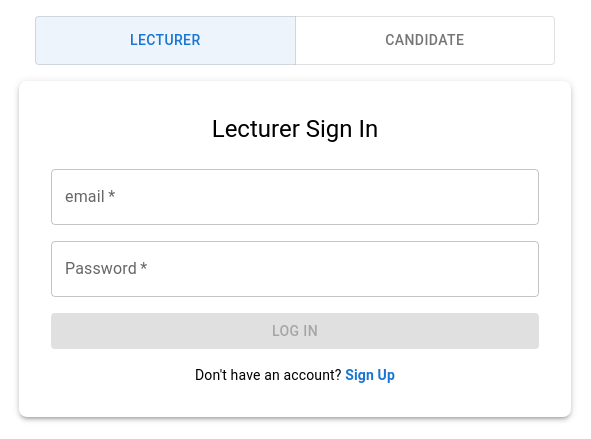
Test: LoginPage › toggles role when clicking toggle buttons
The width and height of the screenshot is (591, 439).
Check: the text "Lecturer Sign In" is shown, box [212,114,378,142]
Click the button "Candidate". click: [425, 40]
box: [294,16,555,64]
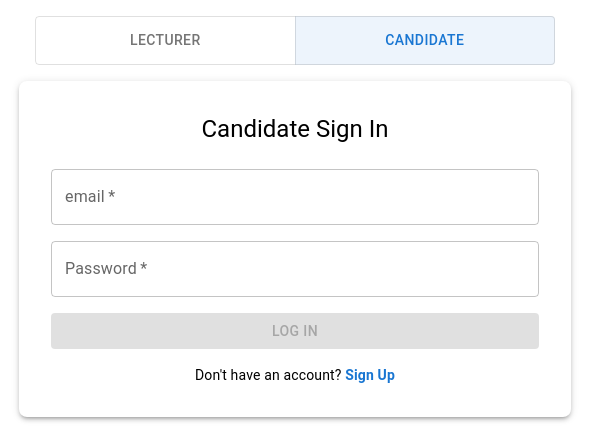
Check: the text "Candidate Sign In" is shown, box [202,114,388,142]
